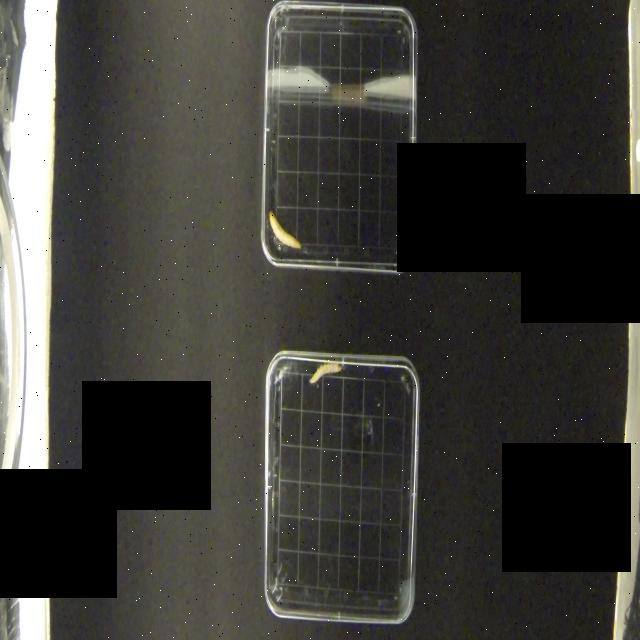larva: (268, 209, 302, 250), (309, 360, 342, 385)
